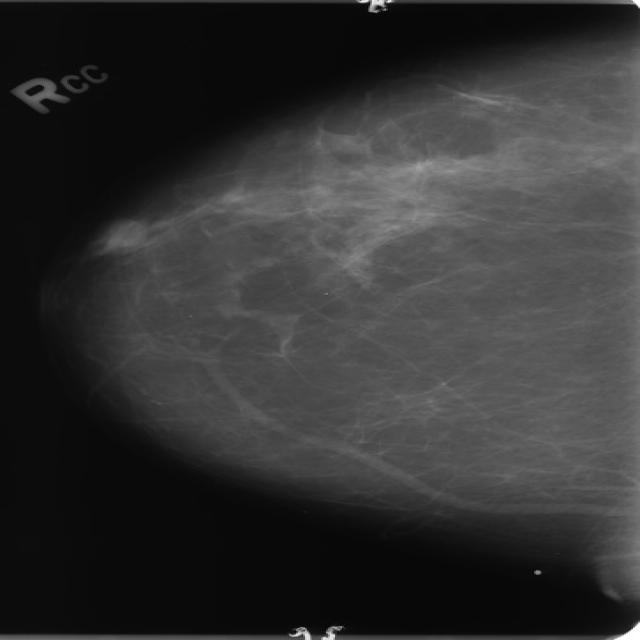tumour: (100, 218, 146, 248)
